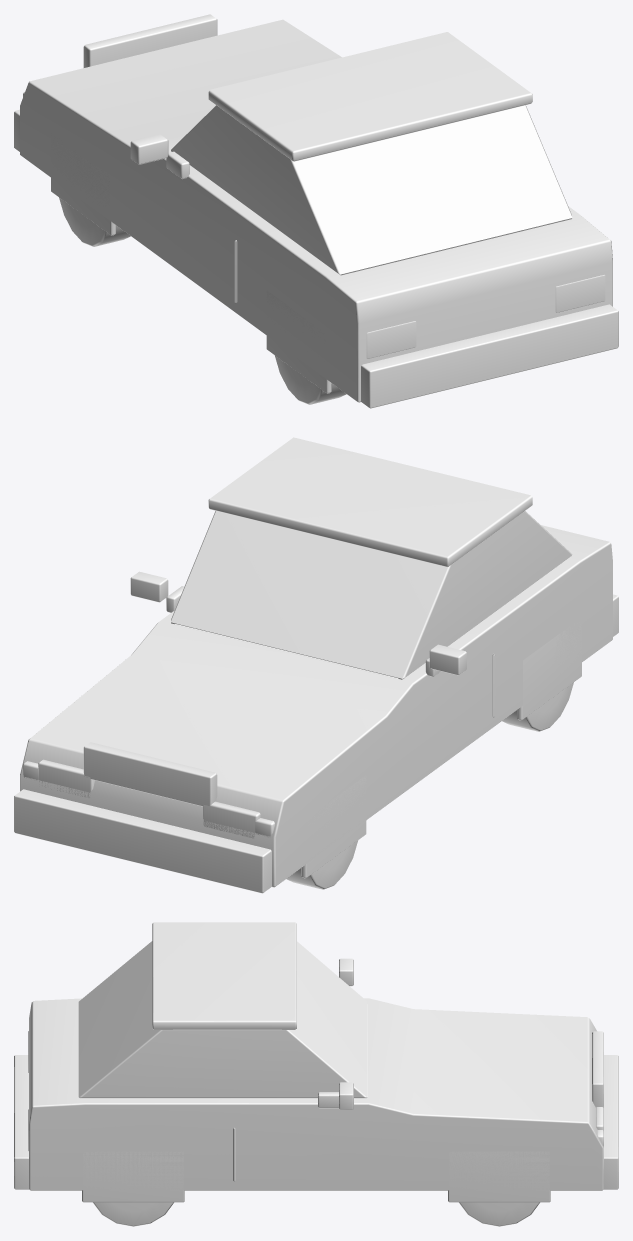
File: hatchback.glb
3 views of the same model, one above another, from view 1: azimuth 30°, elevation 25°; view 2: azimuth 150°, elevation 25°; view 3: azimuth 270°, elevation 25° (orthographic). The views are drawn at different scales.
Parts seen in each view (by area): view 1: Body, Glass, Trim, Lamps, Wheel_RL, Wheel_FL; view 2: Body, Glass, Trim, Lamps, Wheel_FL, Wheel_RL; view 3: Body, Glass, Trim, Wheel_FR, Wheel_RR.
Part boxes in pixels (x1,y1,x2,y2): Body: (20, 19, 612, 402); Glass: (171, 105, 572, 275); Trim: (14, 14, 618, 408); Lamps: (23, 92, 605, 358); Wheel_RL: (275, 355, 346, 404); Wheel_FL: (59, 197, 130, 246); Body: (20, 437, 612, 887); Glass: (171, 511, 572, 679); Trim: (14, 571, 618, 893); Lamps: (23, 759, 274, 838); Wheel_FL: (286, 840, 357, 889); Wheel_RL: (502, 682, 573, 731); Body: (29, 922, 603, 1190); Glass: (78, 941, 367, 1098); Trim: (14, 958, 618, 1202); Wheel_FR: (459, 1202, 539, 1226); Wheel_RR: (93, 1202, 173, 1226).
Size of the model in its own units: 2.16 by 1.5 by 4.05.
Materials: 1 (1 with a texture image).
